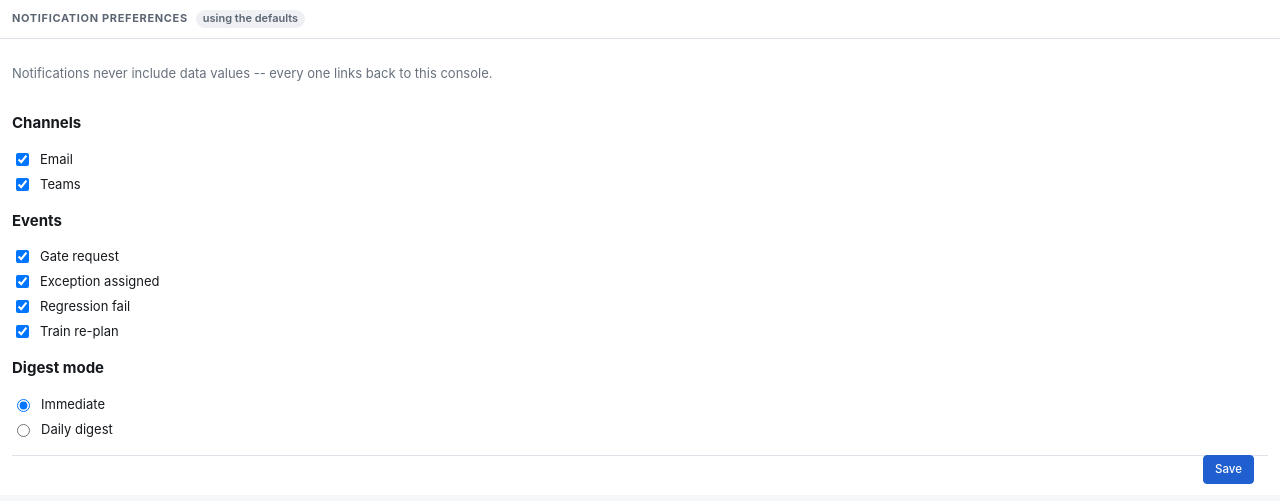
Test: saving preferences › shows a real API refusal on save failure
Expected: the text "using the defaults" is shown, [196,10,305,28]
Click the button "Save" at {"x": 1229, "y": 469}, box [1203,455,1254,484]
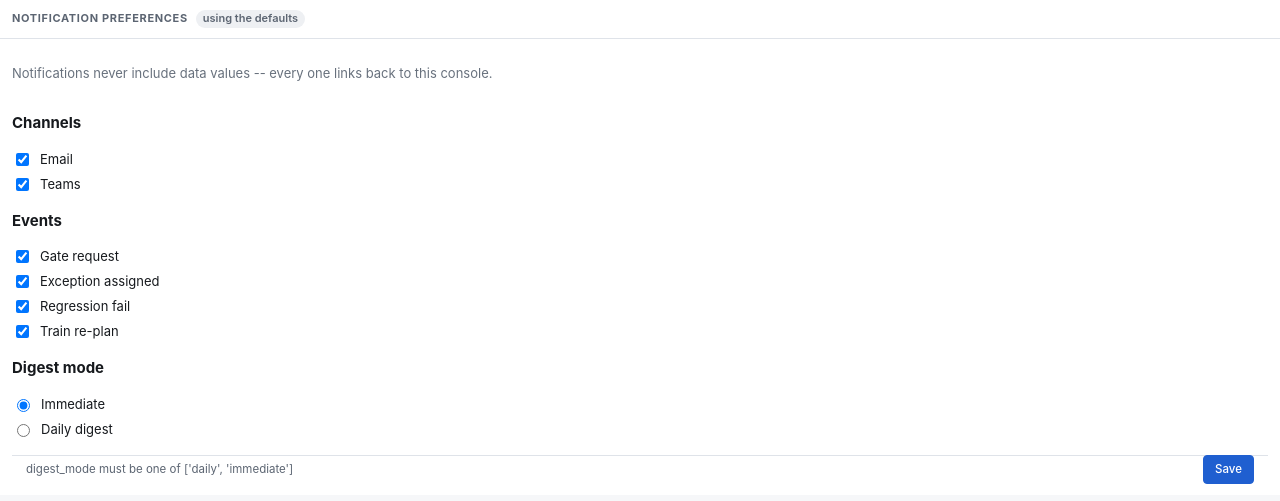
Now the text "digest_mode must be one of ['daily', 'immediate']" is shown, box [26,461,293,478]
